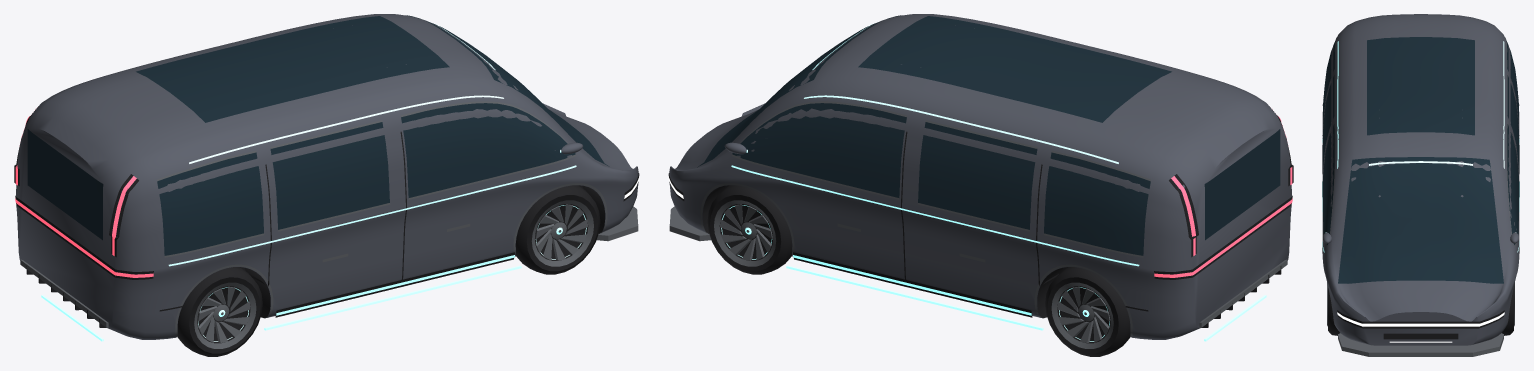
File: car180-van.glb
The picture shows the model from 3 angles, left to right: view 1: azimuth 30°, elevation 25°; view 2: azimuth 150°, elevation 25°; view 3: azimuth 270°, elevation 25°; orthographic projection. The views are drawn at different scales.
Visible parts, largest first — view 1: f162-body, f162-glass, f162-trim, f162-accent, f162-tire, f162-wheel-rr-tire, f162-wheel-fr-tire, f162-wheel-rr-trim, f162-wheel-fr-trim, f162-tail; view 2: f162-body, f162-glass, f162-trim, f162-accent, f162-tire, f162-wheel-rl-tire, f162-wheel-fl-tire, f162-wheel-rl-trim, f162-wheel-fl-trim, f162-tail; view 3: f162-glass, f162-body, f162-trim, f162-tire, f162-accent, f162-head, f162-wheel-fl-tire, f162-wheel-fr-tire.
Part boxes in pixels (x1=…): f162-body: x1=16, y1=14, x2=638, y2=339; f162-glass: x1=27, y1=15, x2=609, y2=255; f162-trim: x1=20, y1=101, x2=638, y2=335; f162-accent: x1=41, y1=24, x2=576, y2=341; f162-tire: x1=14, y1=107, x2=639, y2=327; f162-wheel-rr-tire: x1=177, y1=267, x2=262, y2=356; f162-wheel-fr-tire: x1=515, y1=185, x2=600, y2=274; f162-wheel-rr-trim: x1=194, y1=282, x2=256, y2=348; f162-wheel-fr-trim: x1=531, y1=200, x2=593, y2=266; f162-tail: x1=15, y1=116, x2=153, y2=277; f162-body: x1=669, y1=14, x2=1292, y2=339; f162-glass: x1=697, y1=15, x2=1280, y2=255; f162-trim: x1=669, y1=101, x2=1287, y2=335; f162-accent: x1=731, y1=24, x2=1266, y2=341; f162-tire: x1=668, y1=107, x2=1293, y2=327; f162-wheel-rl-tire: x1=1045, y1=267, x2=1130, y2=356; f162-wheel-fl-tire: x1=707, y1=185, x2=792, y2=274; f162-wheel-rl-trim: x1=1051, y1=282, x2=1113, y2=348; f162-wheel-fl-trim: x1=714, y1=200, x2=776, y2=266; f162-tail: x1=1154, y1=116, x2=1292, y2=277; f162-glass: x1=1322, y1=37, x2=1519, y2=283; f162-body: x1=1322, y1=14, x2=1519, y2=345; f162-trim: x1=1322, y1=37, x2=1519, y2=356; f162-tire: x1=1322, y1=95, x2=1519, y2=339; f162-accent: x1=1322, y1=41, x2=1519, y2=252; f162-head: x1=1337, y1=312, x2=1504, y2=342; f162-wheel-fl-tire: x1=1502, y1=288, x2=1513, y2=335; f162-wheel-fr-tire: x1=1328, y1=288, x2=1339, y2=335.
Size of the model in its own units: 4.65 by 1.82 by 1.9.
